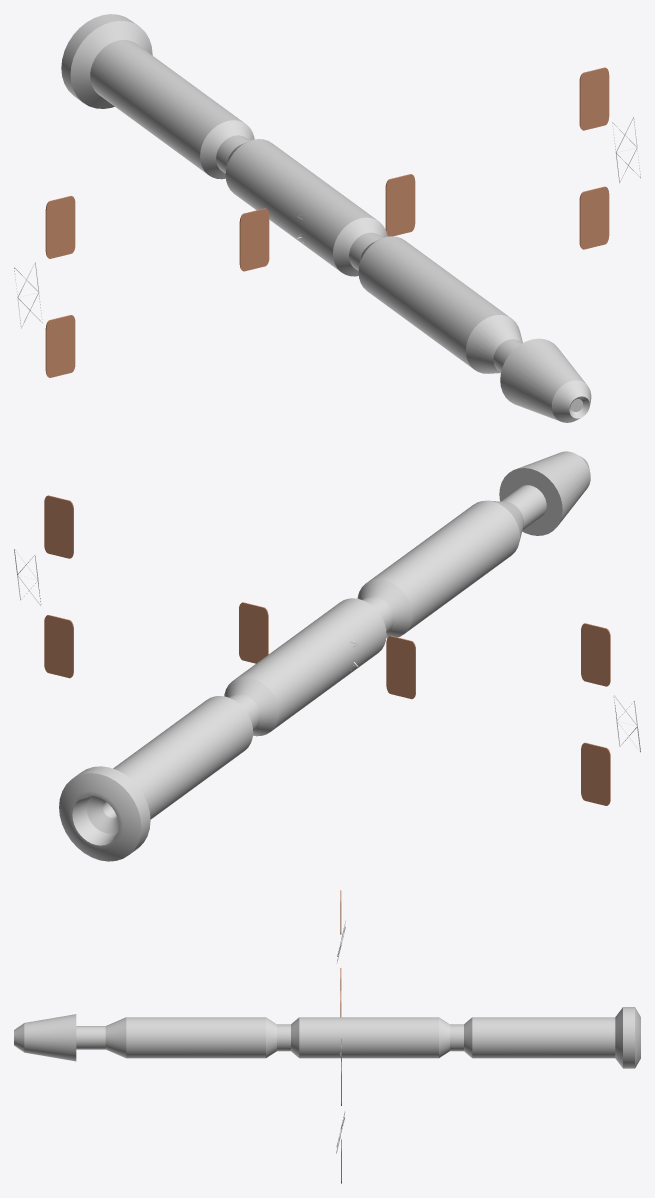
Rendered from SpaceSatgltf.glb.
3 renders of one model, top to bottom at view 1: azimuth 30°, elevation 25°; view 2: azimuth 150°, elevation 25°; view 3: azimuth 270°, elevation 25°, orthographic. The views are drawn at different scales.
Parts seen in each view (by area): view 1: Cylinder, Plane.006, Plane.010, Plane.005, Plane.014, Plane.002, Plane.013; view 2: Cylinder, Plane.014, Plane.005, Plane.006, Plane.010, Plane.013, Plane.002; view 3: Cylinder.
Boxes of the visible parts, x1=… form: Cylinder: x1=61, y1=14, x2=591, y2=422; Plane.006: x1=579, y1=186, x2=609, y2=249; Plane.010: x1=239, y1=208, x2=269, y2=271; Plane.005: x1=579, y1=67, x2=609, y2=130; Plane.014: x1=45, y1=196, x2=75, y2=258; Plane.002: x1=385, y1=174, x2=415, y2=236; Plane.013: x1=45, y1=315, x2=75, y2=377; Cylinder: x1=59, y1=451, x2=590, y2=861; Plane.014: x1=581, y1=623, x2=610, y2=686; Plane.005: x1=44, y1=495, x2=73, y2=558; Plane.006: x1=44, y1=615, x2=73, y2=678; Plane.010: x1=386, y1=635, x2=415, y2=699; Plane.013: x1=581, y1=742, x2=610, y2=805; Plane.002: x1=239, y1=602, x2=268, y2=663; Cylinder: x1=14, y1=1007, x2=640, y2=1068.
Size of the model in its own units: 22.54 by 6.23 by 30.37.
